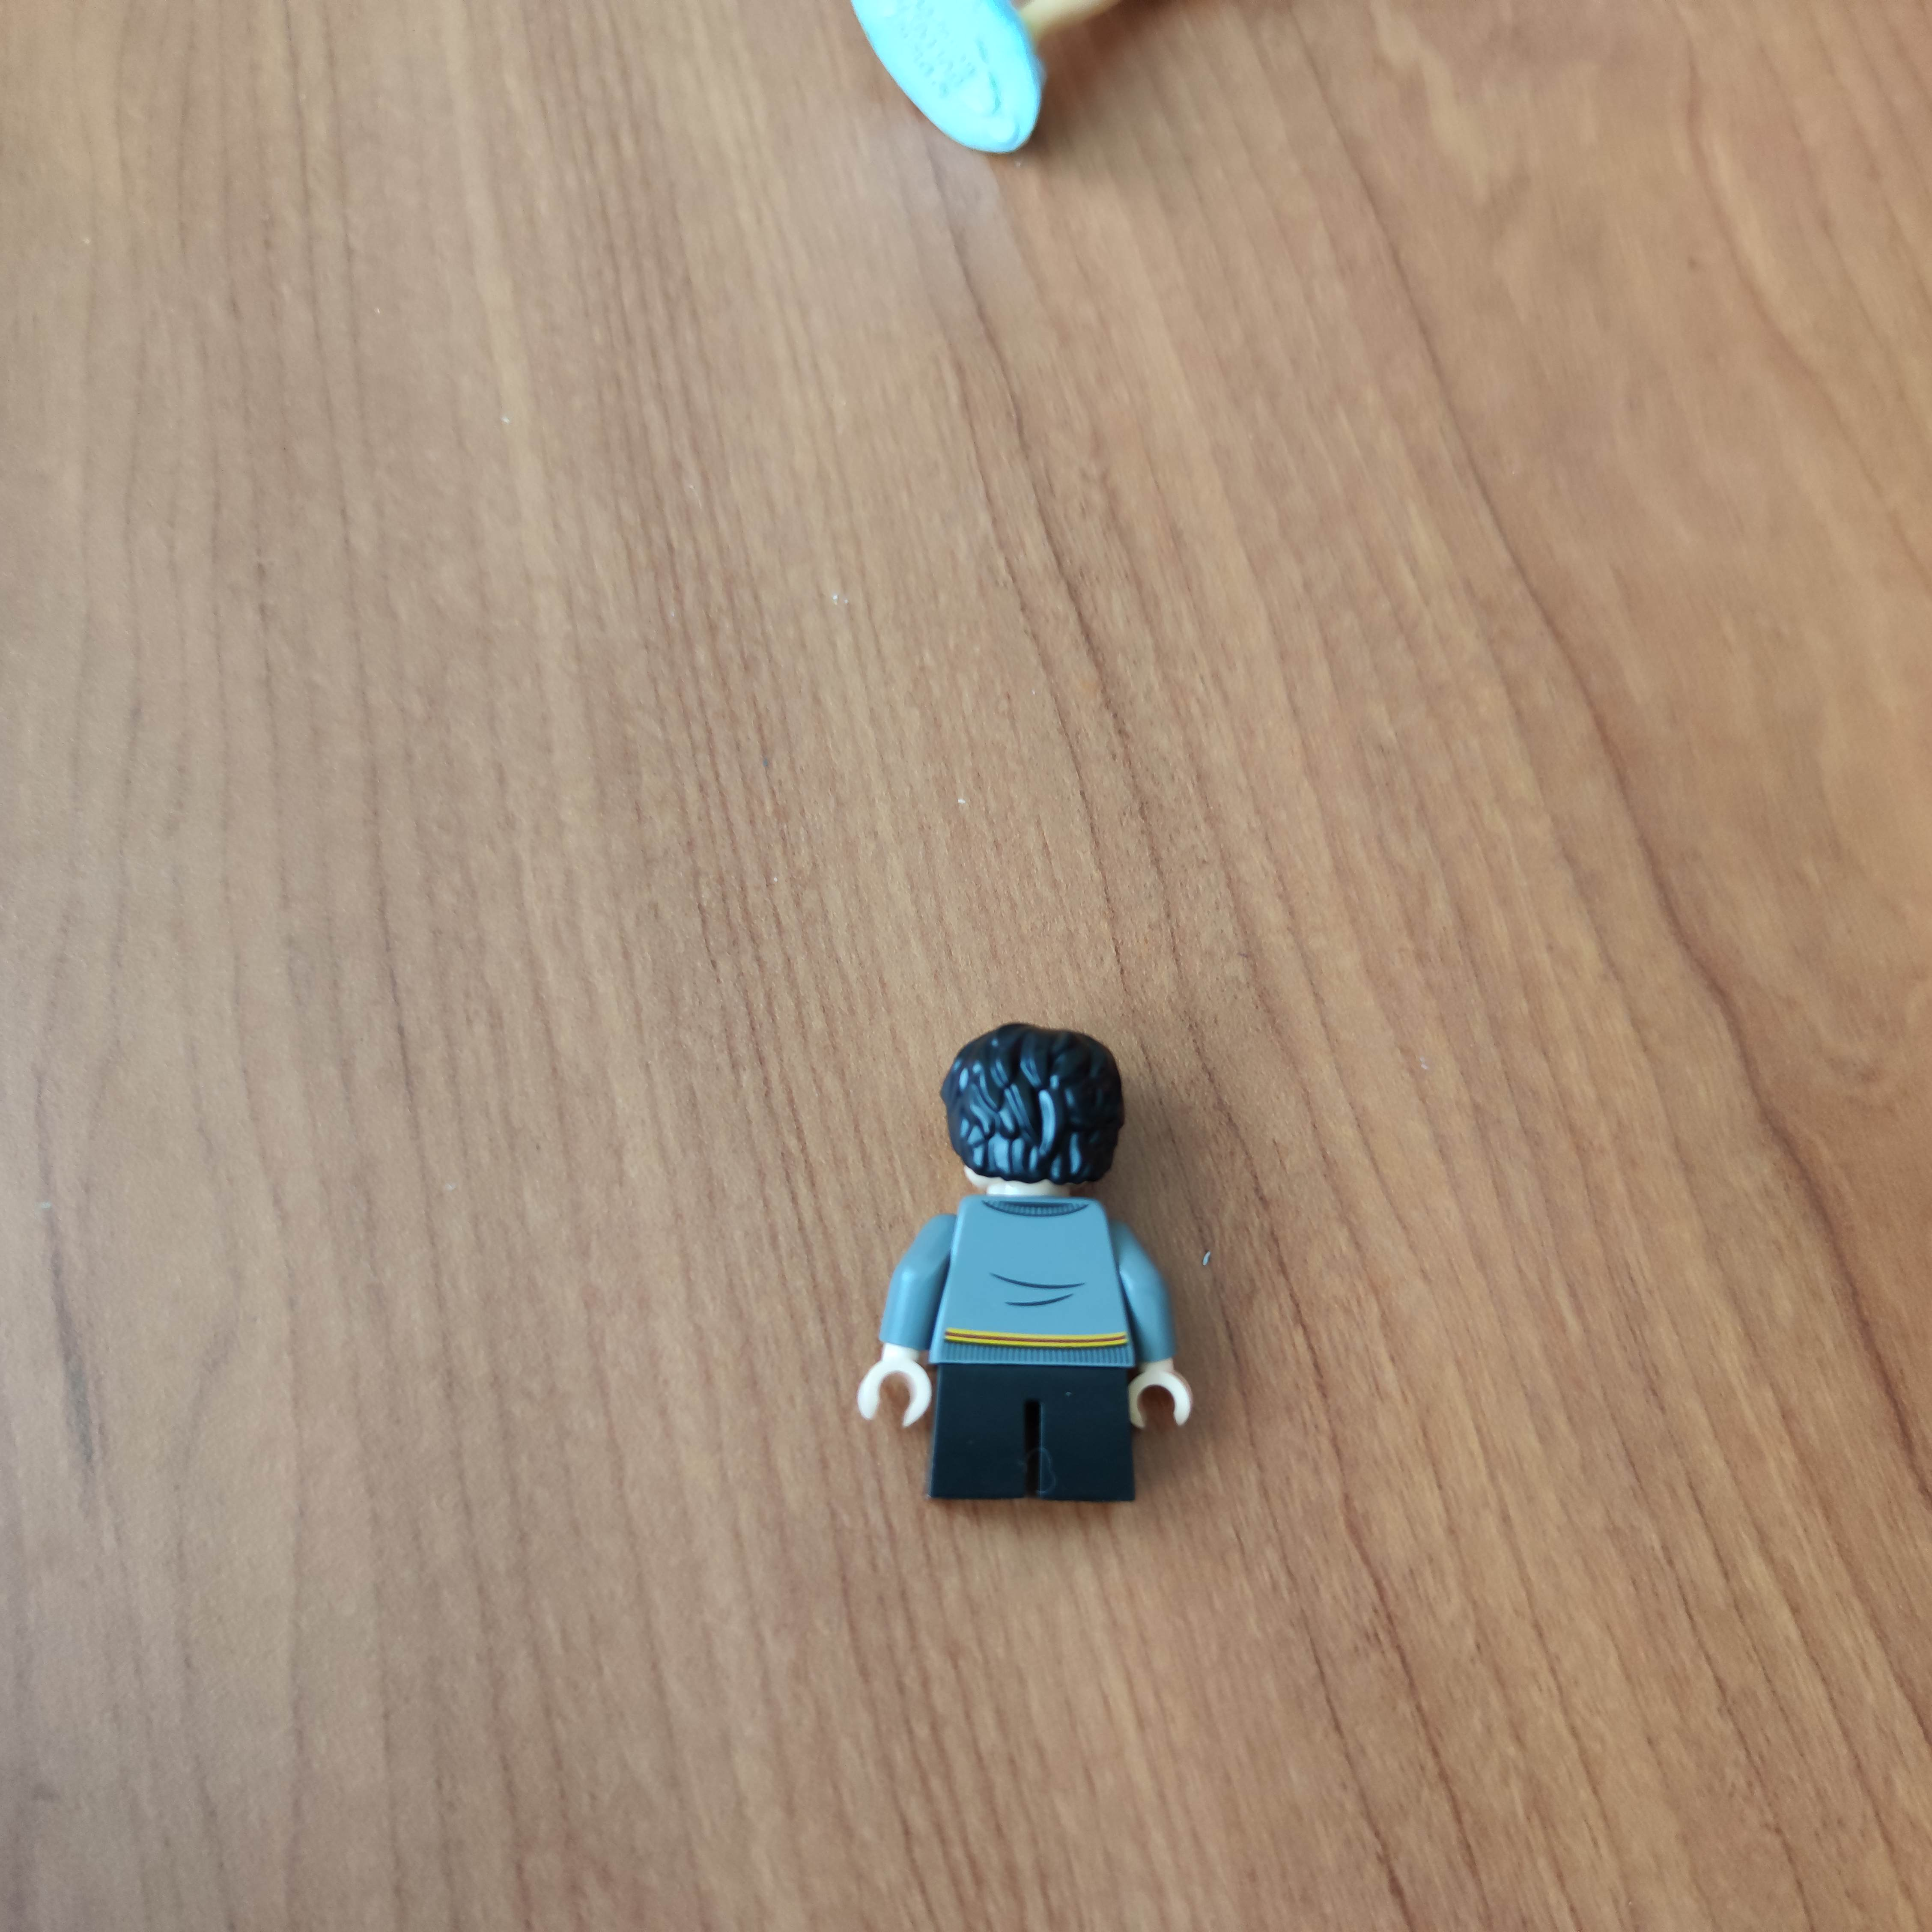lego: (855, 1021, 1200, 1509)
